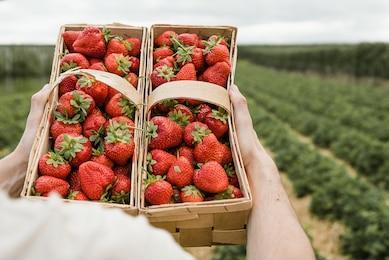Fresa: (76, 159, 117, 200), (147, 113, 185, 151), (102, 127, 136, 168), (193, 158, 230, 195), (70, 24, 109, 59), (57, 89, 98, 119), (54, 130, 93, 161), (35, 150, 73, 181), (195, 132, 227, 165), (147, 147, 181, 177), (166, 153, 194, 189), (33, 174, 70, 201), (173, 44, 206, 71), (143, 177, 173, 206), (103, 91, 134, 118), (100, 51, 130, 78), (205, 42, 234, 69)
